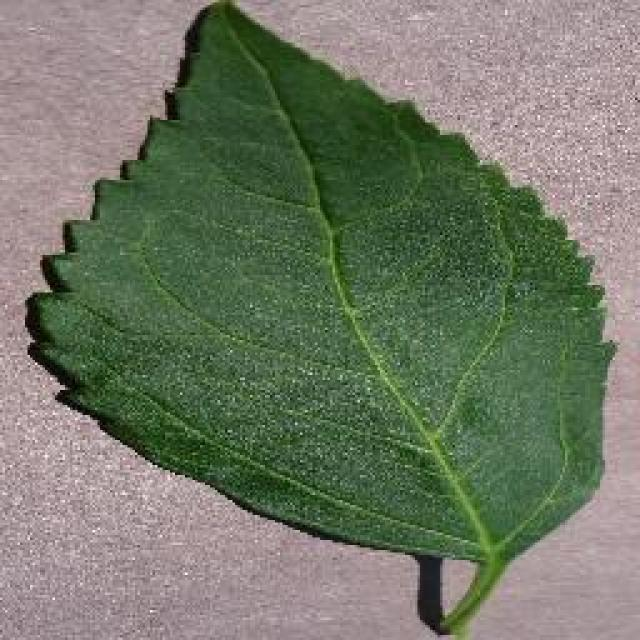Cherry___healthy: (18, 0, 628, 638)
